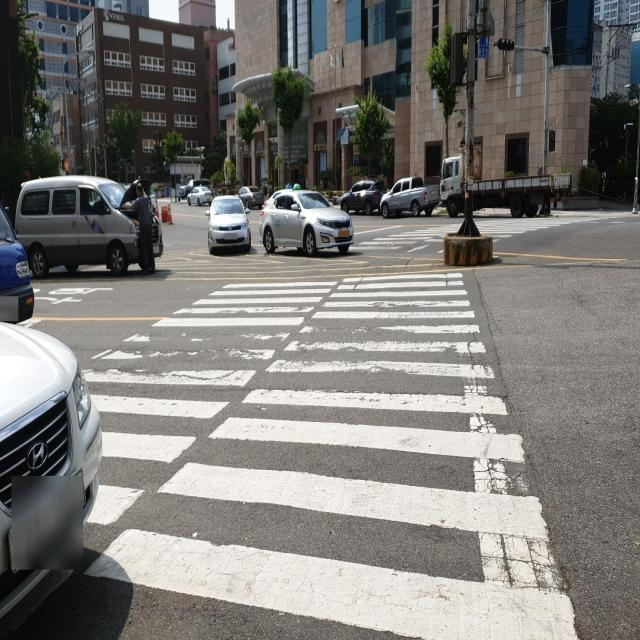횡단보도: (0, 268, 580, 639), (358, 216, 602, 247)
